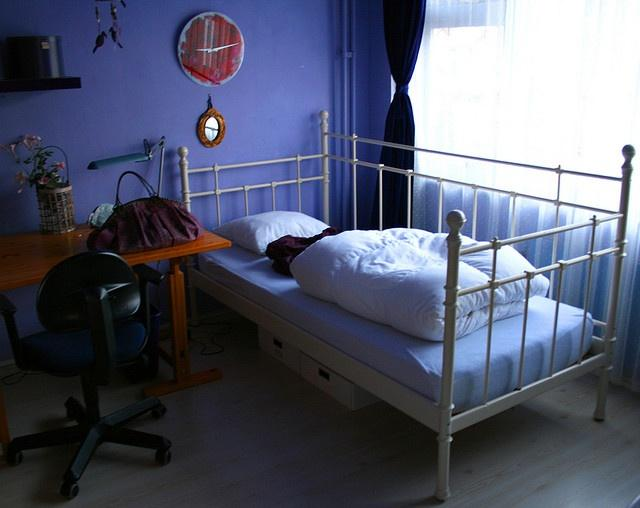Kursi: (1, 249, 172, 507)
Meja: (0, 212, 234, 300)
